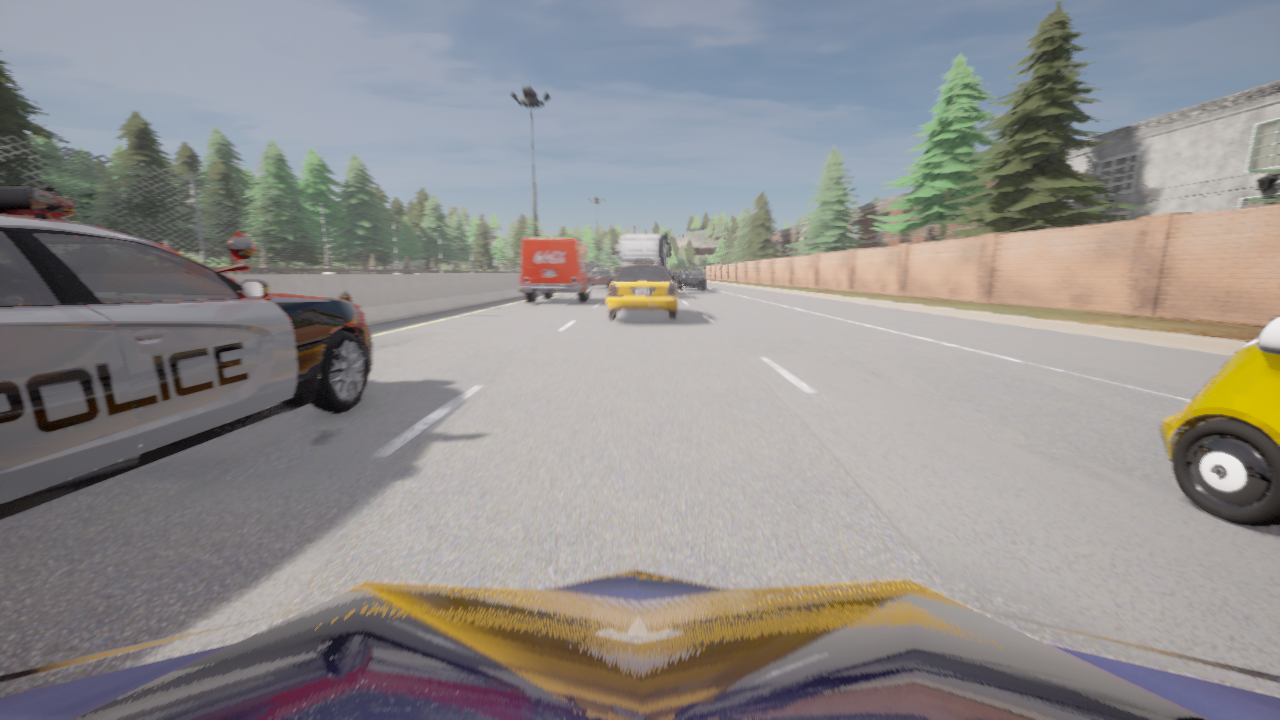cyclist: (0, 569, 1279, 719), (0, 187, 371, 520), (1160, 317, 1279, 526), (519, 238, 594, 302), (608, 260, 677, 319), (615, 234, 671, 277), (676, 269, 705, 289), (588, 270, 612, 288), (667, 270, 677, 282)
